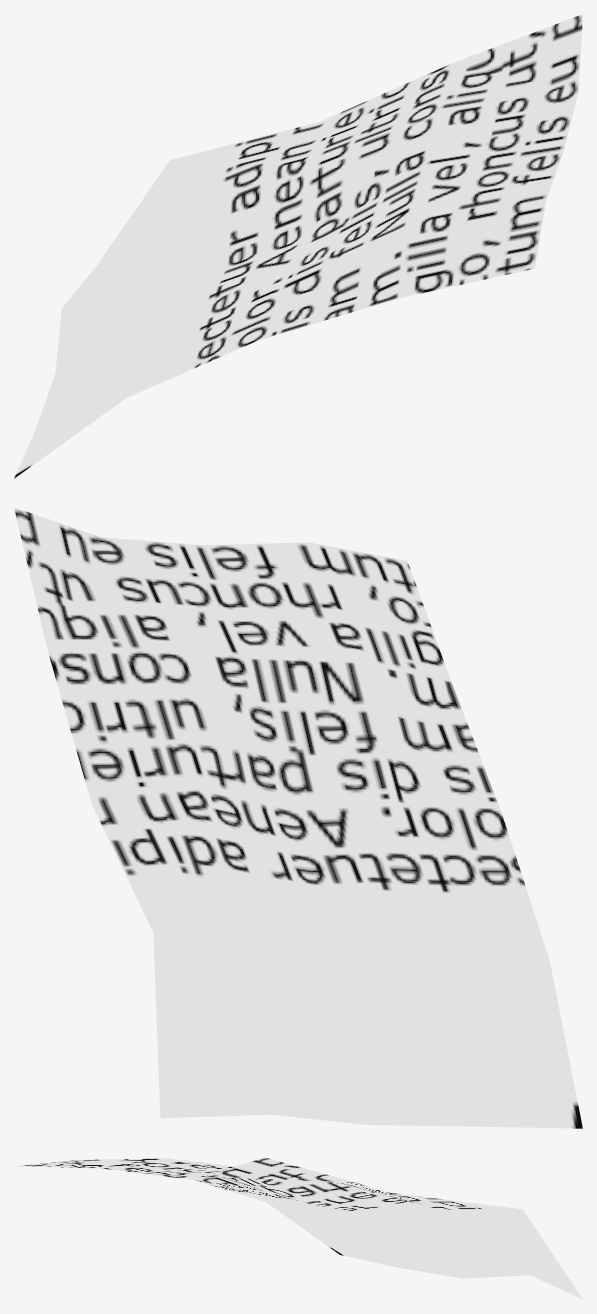
3 renders of one model, top to bottom at view 1: azimuth 30°, elevation 25°; view 2: azimuth 150°, elevation 25°; view 3: azimuth 270°, elevation 25°, orthographic. The views are drawn at different scales.
Visible parts, largest first — view 1: Plane.012; view 2: Plane.012; view 3: Plane.012.
Part boxes in pixels (x1,y1,x2,y2): Plane.012: [14, 14, 582, 478]; Plane.012: [14, 507, 582, 1128]; Plane.012: [15, 1157, 582, 1299].
Size of the model in its own units: 0.4442 by 0.2968 by 0.4745.
Materials: 1 (1 with a texture image).
